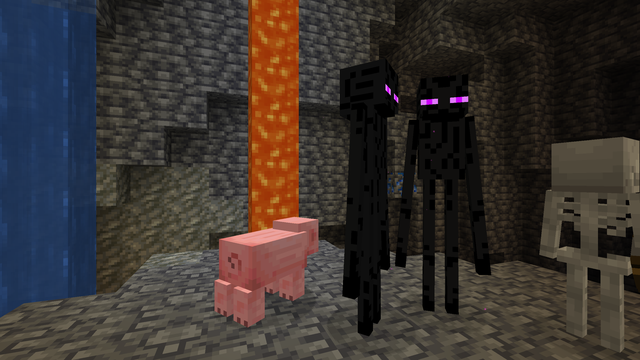cochons: (230, 225, 307, 323)
endermens: (334, 47, 409, 347), (420, 63, 479, 327)
squelettes: (540, 137, 637, 358)
